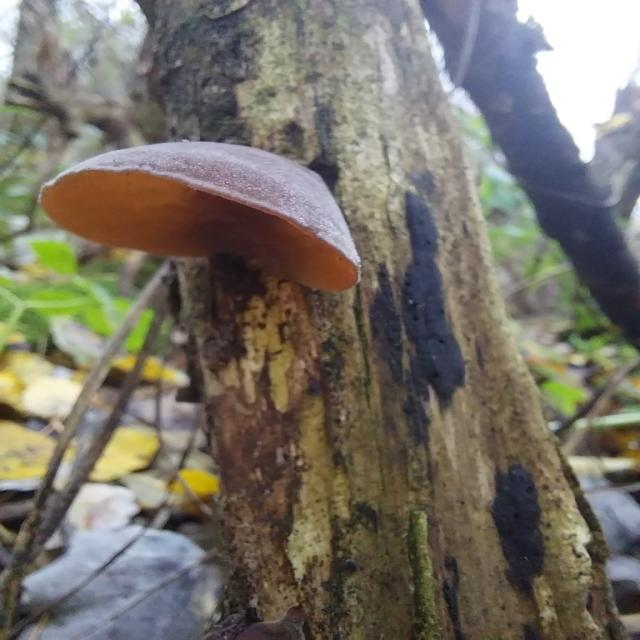Matang: (32, 134, 370, 298)
